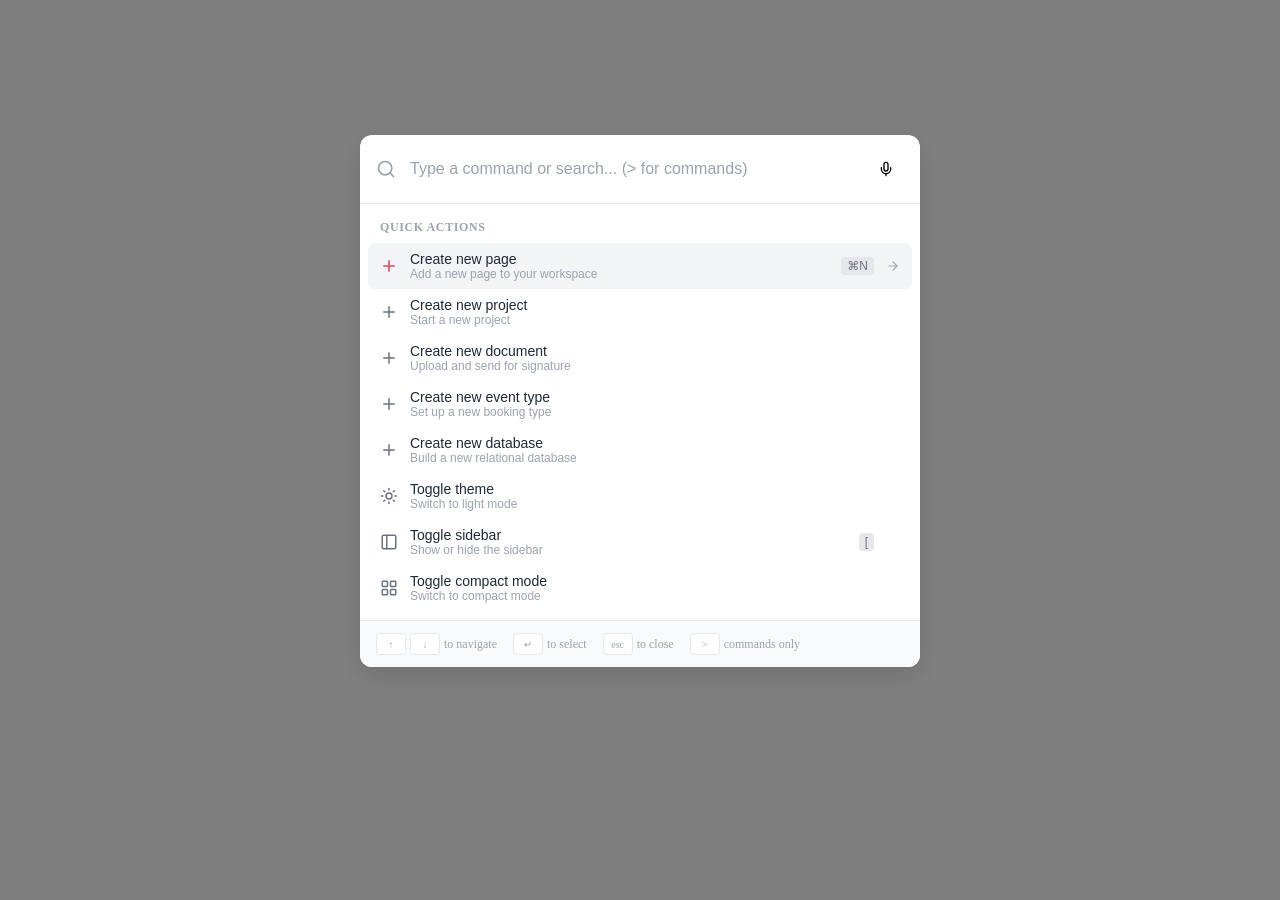
Scenario: CommandPalette › shows empty state with hint for no results
This screenshot has width=1280, height=900.
Type "xyznonexistent" into the field with placeholder "Type a command or search... (> for commands)" at (632, 169), box [408,159,856,179]
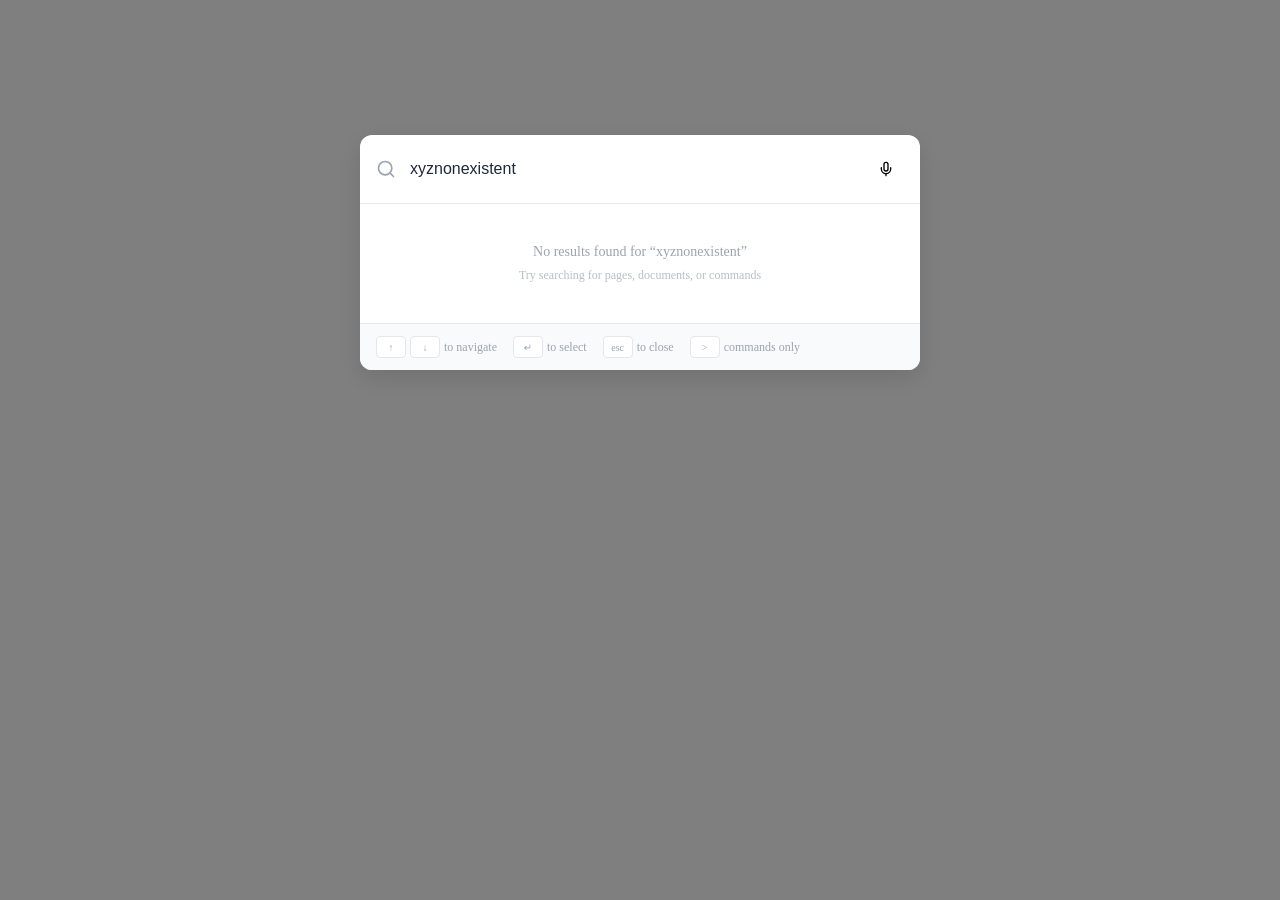
Expected: the text "No results found for “xyznonexistent”" is shown, [533,244,747,259]
Expected: the text "Try searching for pages, documents, or commands" is shown, [519,268,761,282]
